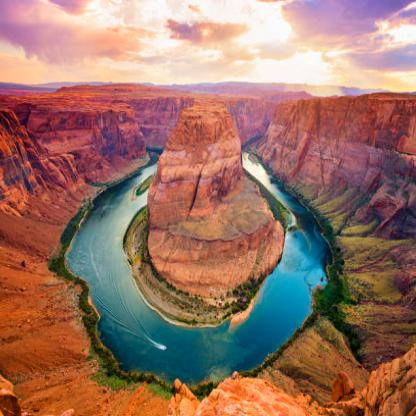Sedimentary_Sandstone: (140, 93, 288, 316)
